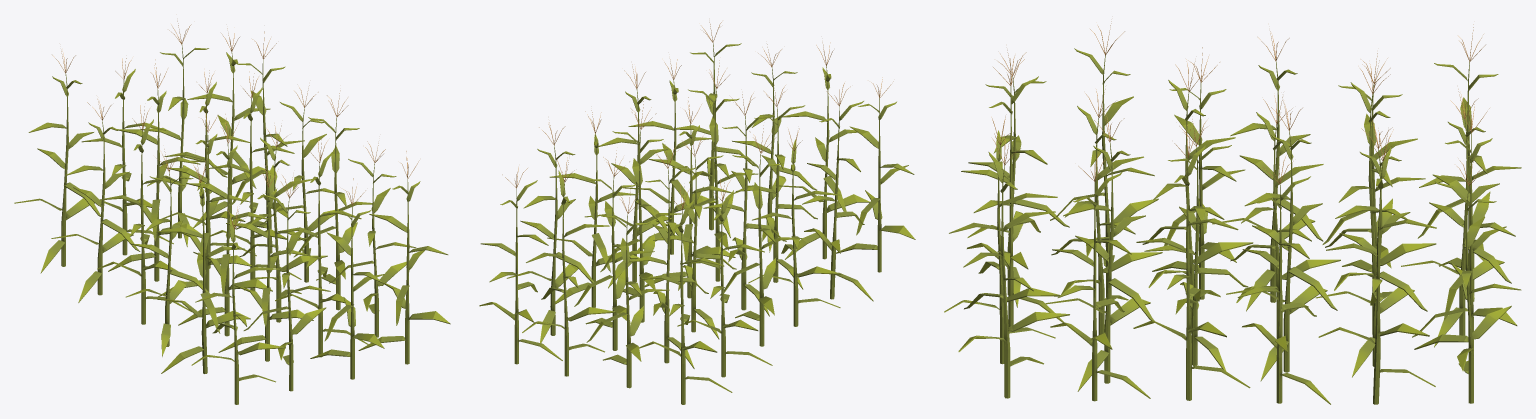
File: FieldOfCorn.obj
3 renders of one model, left to right at view 1: azimuth 30°, elevation 25°; view 2: azimuth 150°, elevation 25°; view 3: azimuth 270°, elevation 25°, orthographic. The views are drawn at different scales.
Visible parts, largest first — view 1: FieldOfCorn_mesh; view 2: FieldOfCorn_mesh; view 3: FieldOfCorn_mesh.
Part boxes in pixels (x1,y1,x2,y2): FieldOfCorn_mesh: (14, 21, 450, 404); FieldOfCorn_mesh: (479, 22, 915, 404); FieldOfCorn_mesh: (944, 21, 1521, 404).
Bounding box in the file's own units: 15.73 × 13.52 × 24.11.
1 material, 1 textured.
